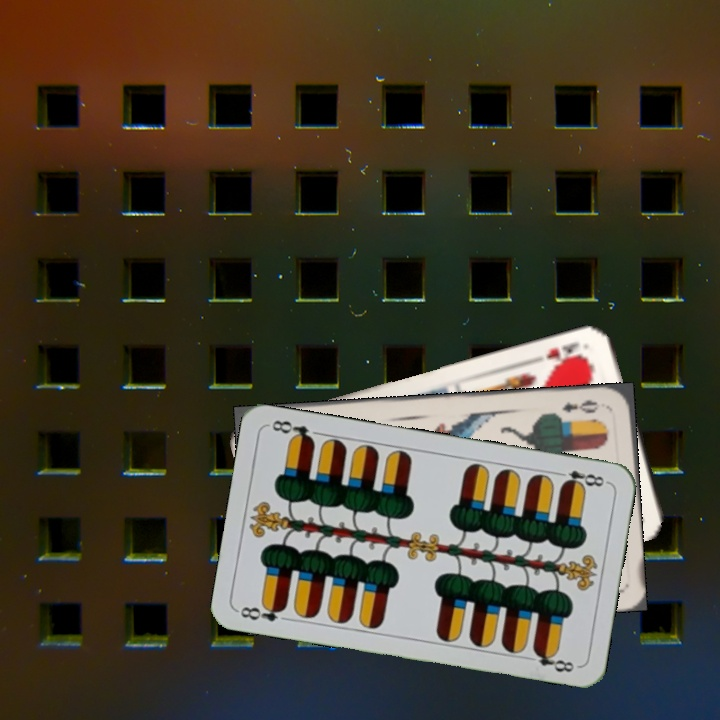E8: (551, 466, 610, 491), (235, 599, 288, 624)
EO: (558, 396, 602, 416)
HK: (542, 338, 590, 369)
